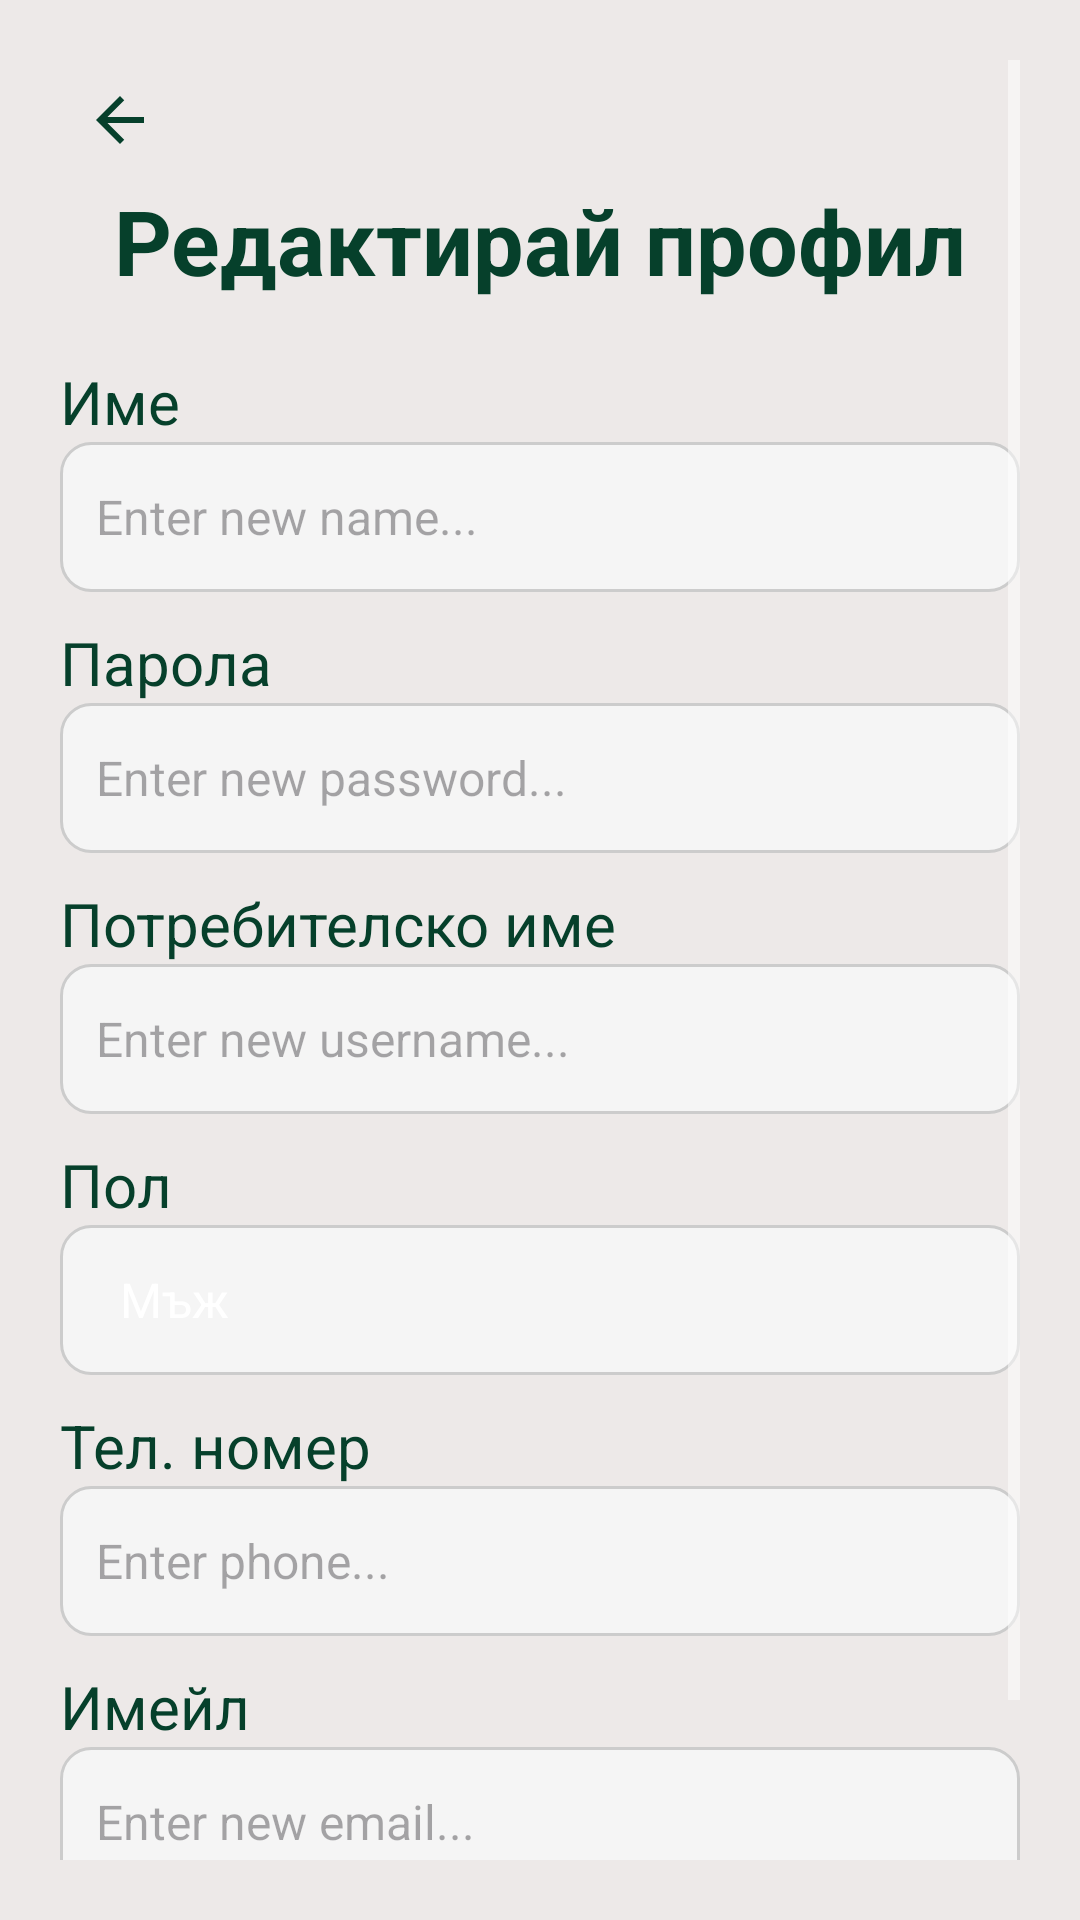

Locate icon controls on the screen. Image size 1080 × 1920, boxes as (x1, y1, x2, y2).
Назад: (96, 96, 144, 144)
